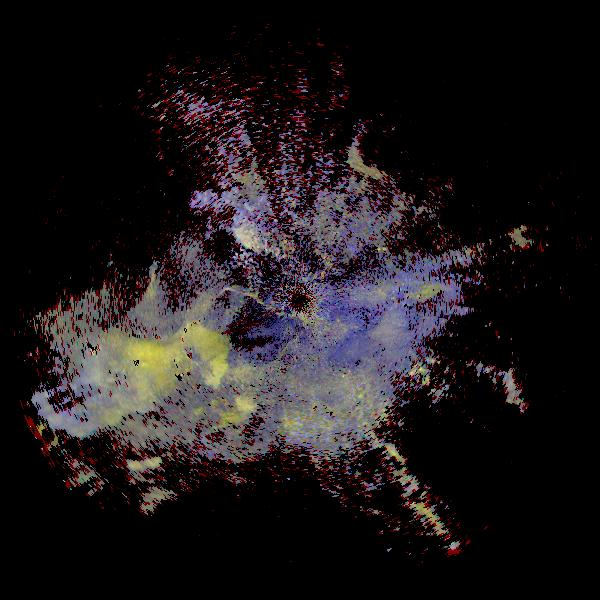roost: (126, 311, 237, 422), (72, 326, 180, 434), (25, 343, 130, 448), (343, 114, 415, 186)
